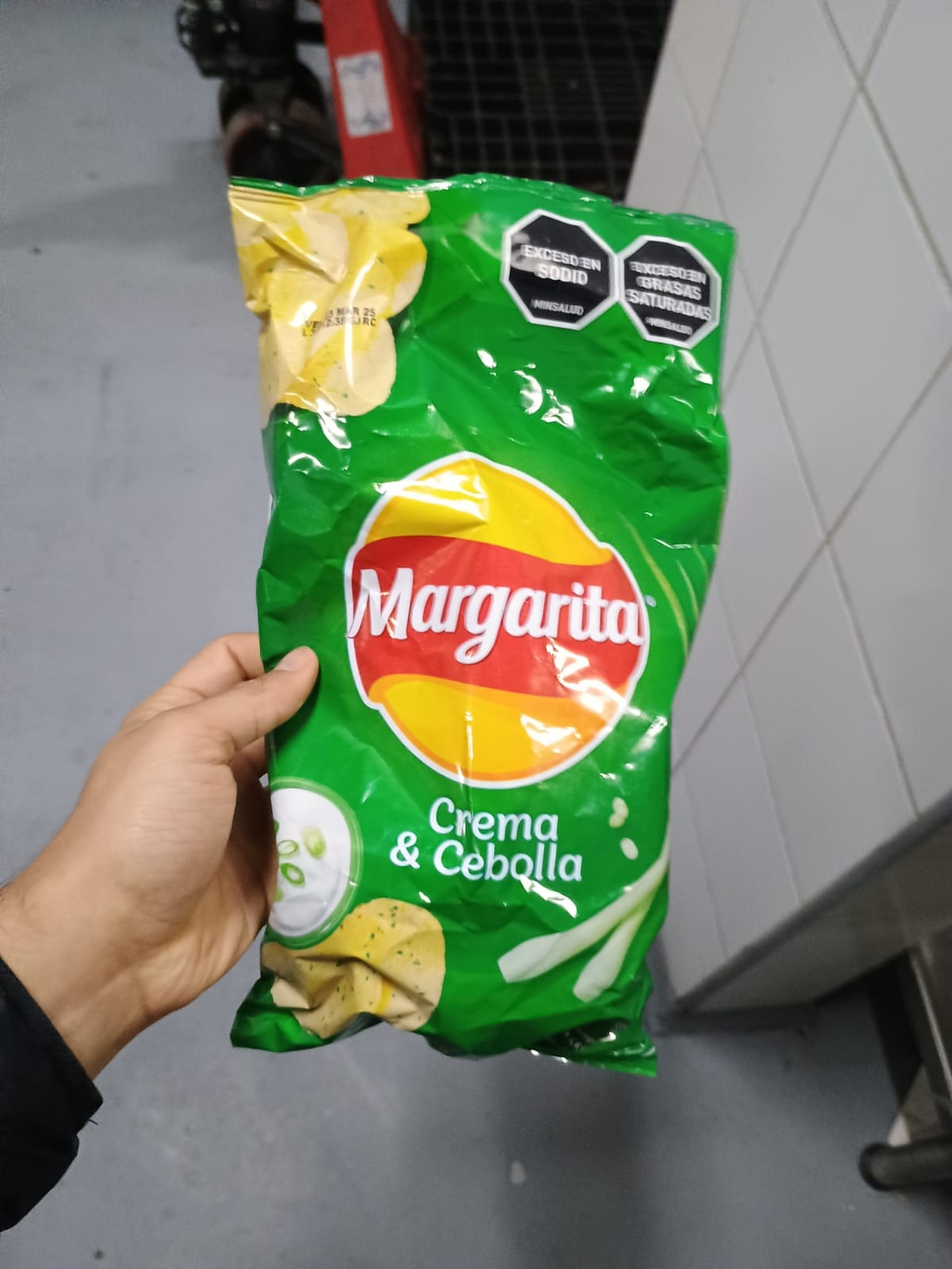Ordinario: (227, 175, 733, 1076)
